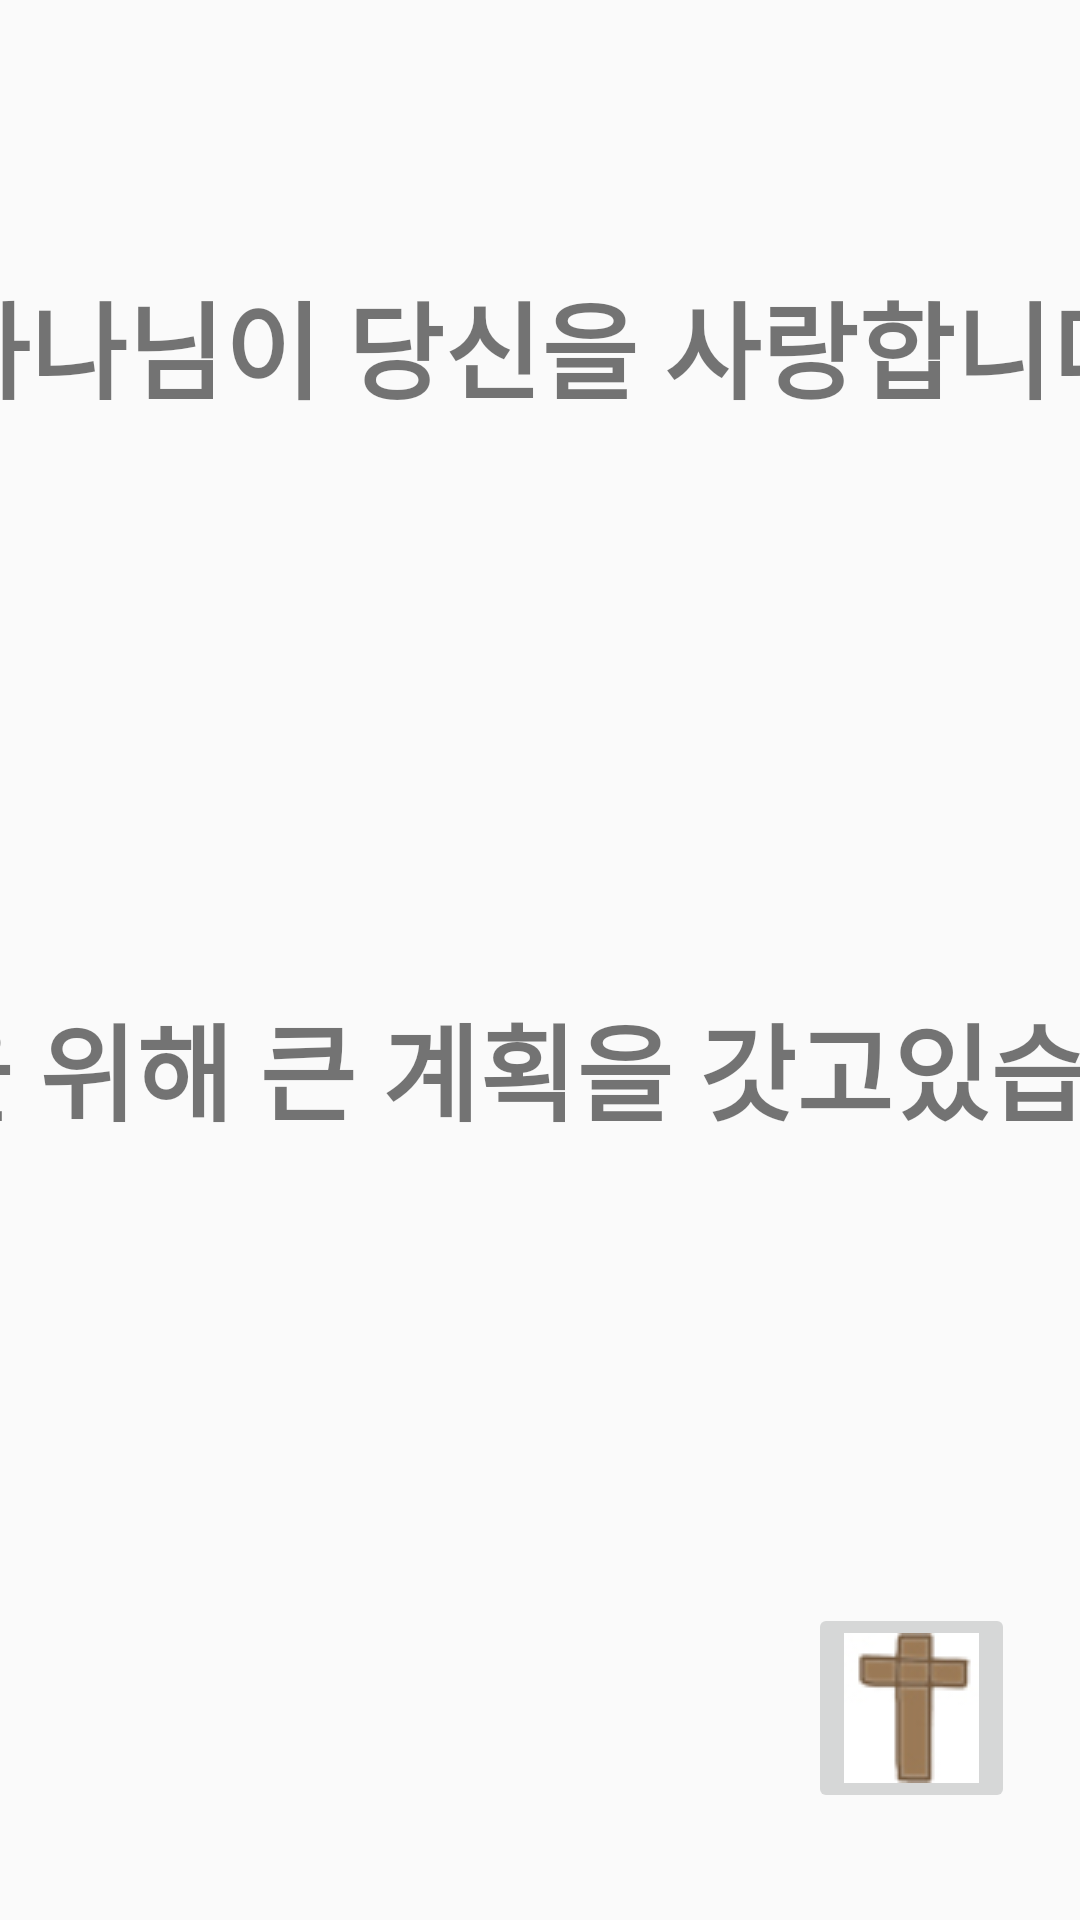

Where to tap for icons on this 1080 x 1920 app screen, as (x=x, y=y):
cross: (x=911, y=1708)
